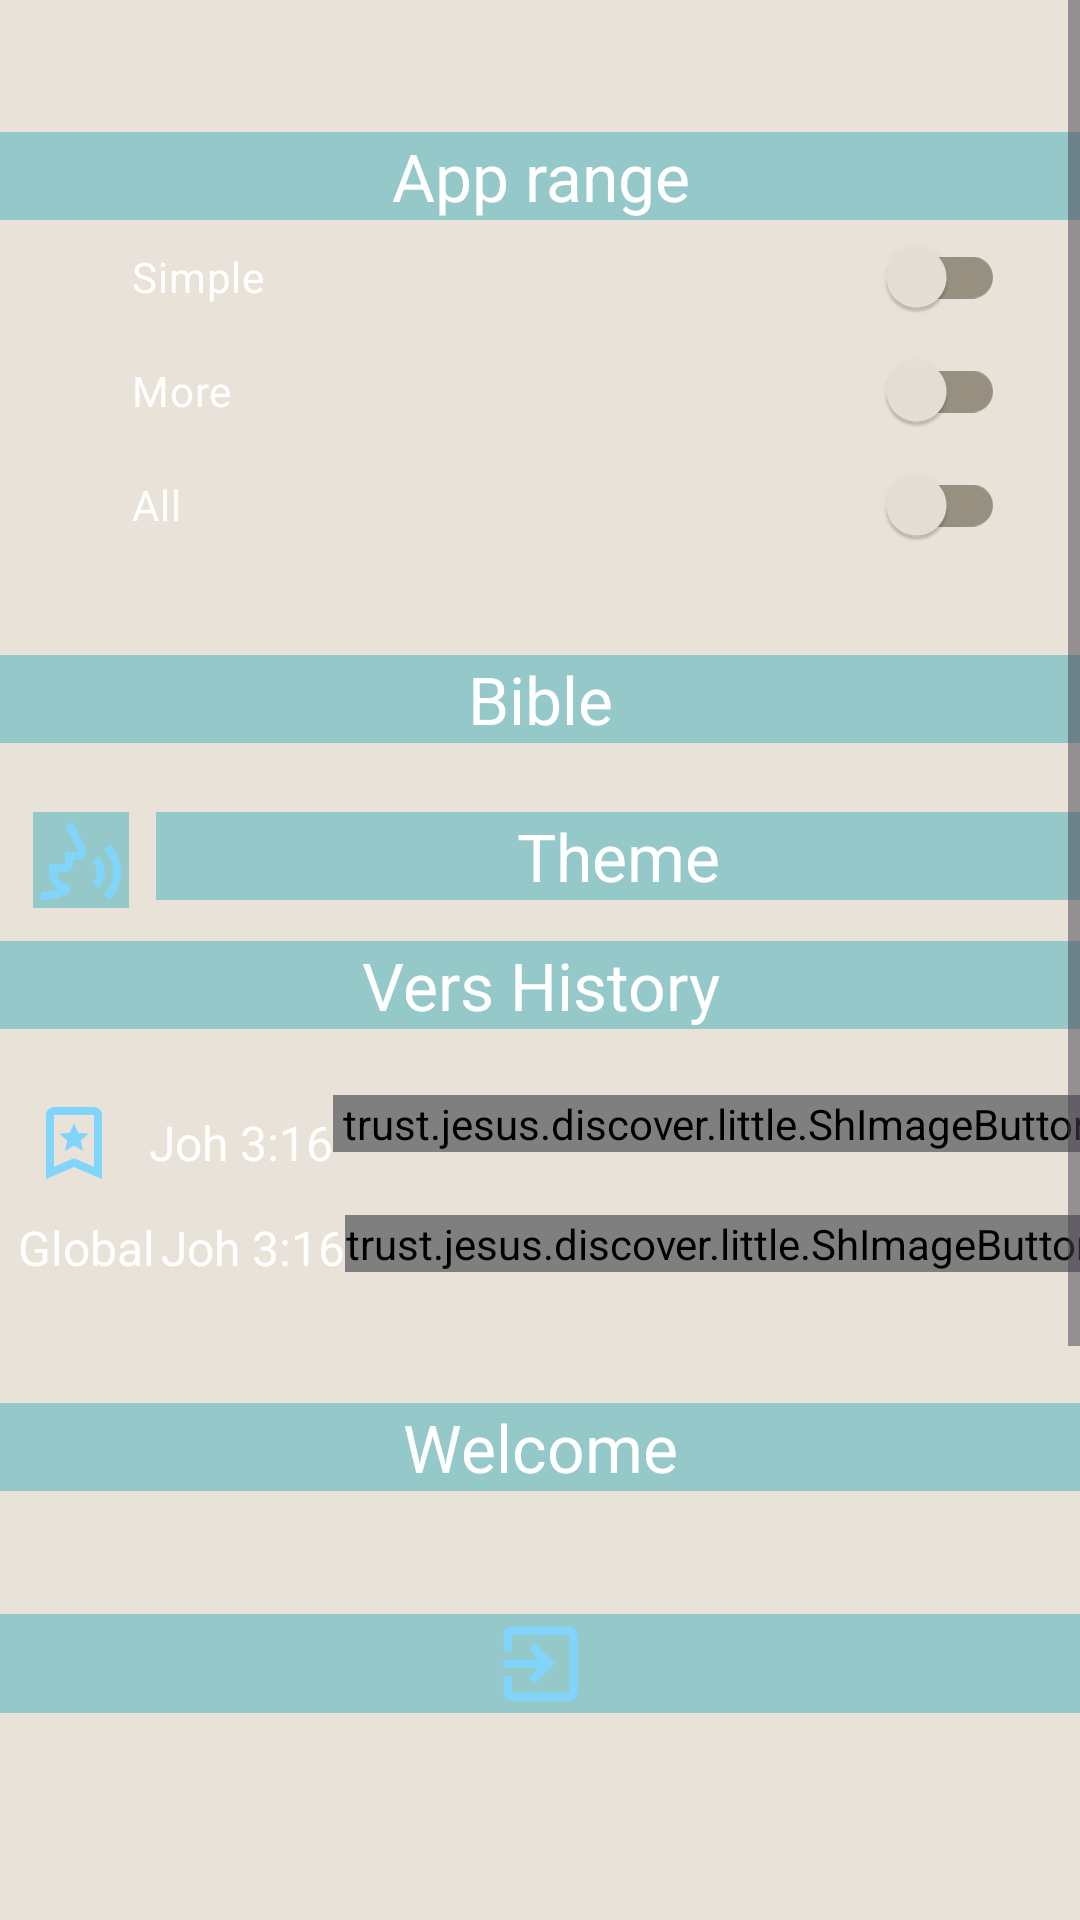

Icons on this 1080 × 1920 Android screen, each with its box as box(x1, y1, x2, y2):
bookmark star: box(46, 1107, 102, 1179)
voice selection: box(33, 812, 129, 908)
